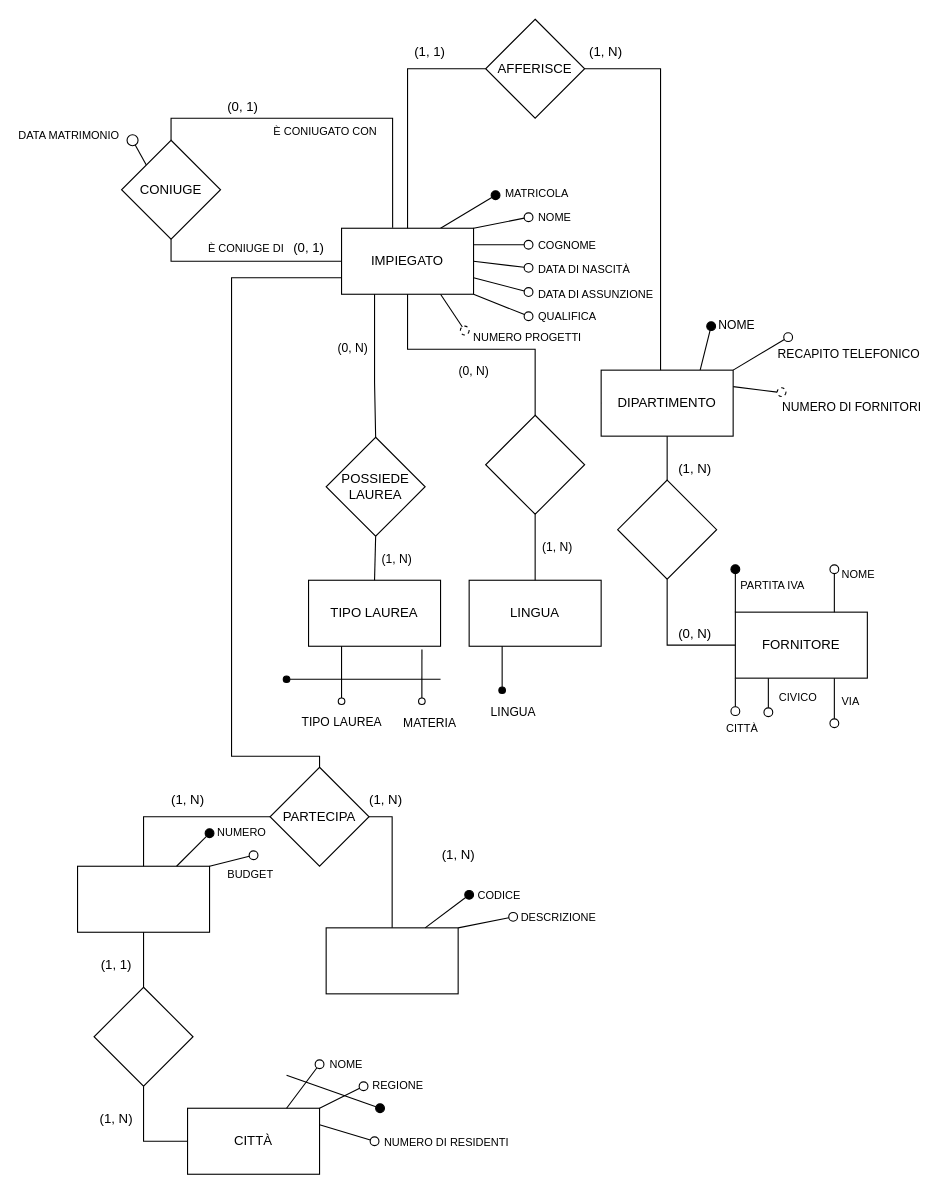
The diagram is 941 pixels wide and 1194 high, and some of its shapes have lost their labels. The centre of each missing label's shape, as x and y in pixels:
"ASSEGNATO" goes at point 143,1036.
"COMPETENZA" goes at point 391,960.
"CONOSCE LINGUA" goes at point 535,464.
"PROGETTO" goes at point 143,898.
"RIFORNISCE" goes at point 667,529.
